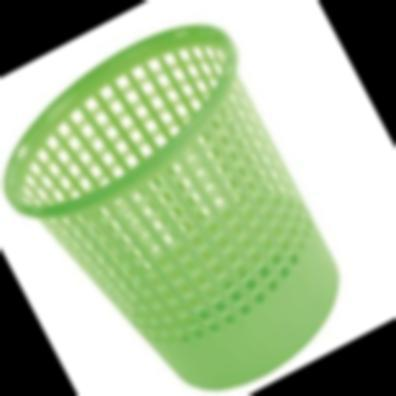Bote de Basura: (0, 5, 368, 396)
